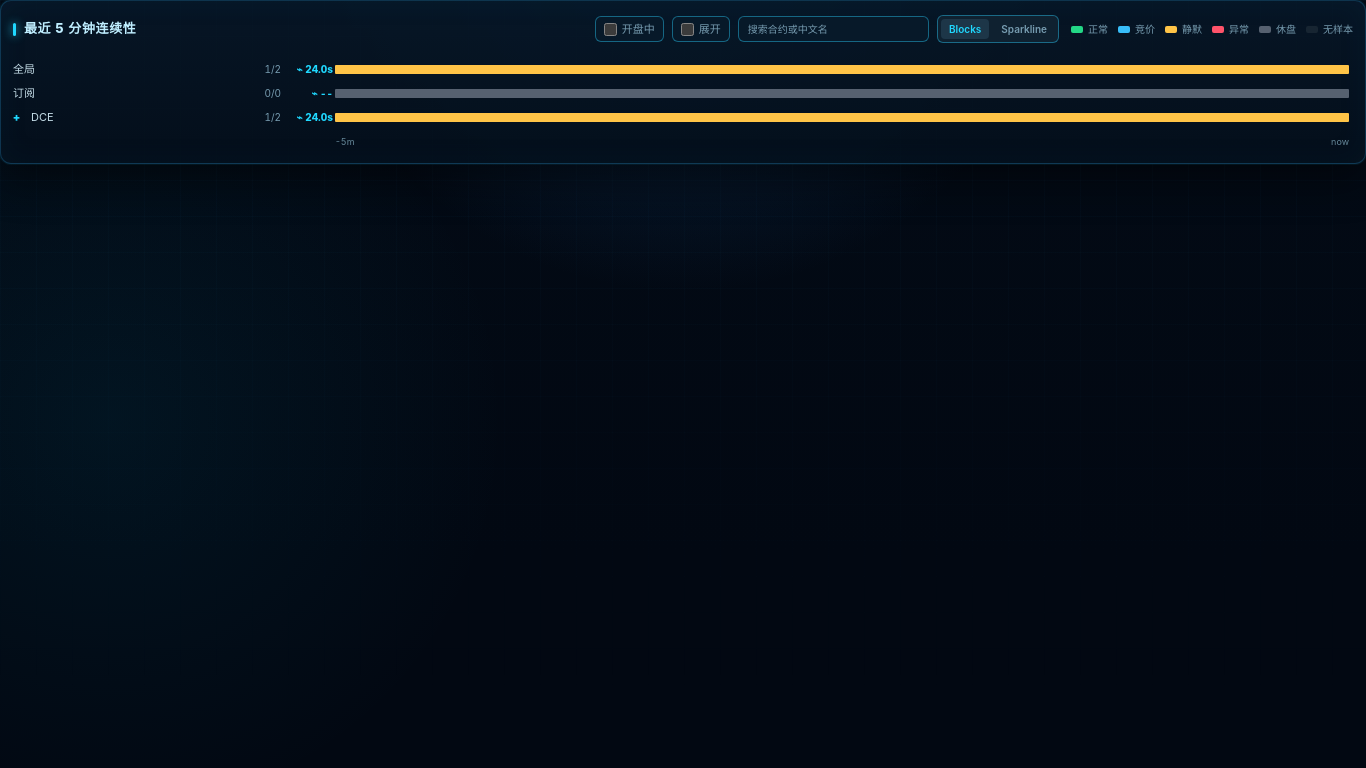
Test case: ContinuityTimeline › filters expanded symbol rows with panel-local search
Click the button "+ DCE 1/2 ⌁ 24.0s" at [315, 116], box [13,109,333,125]
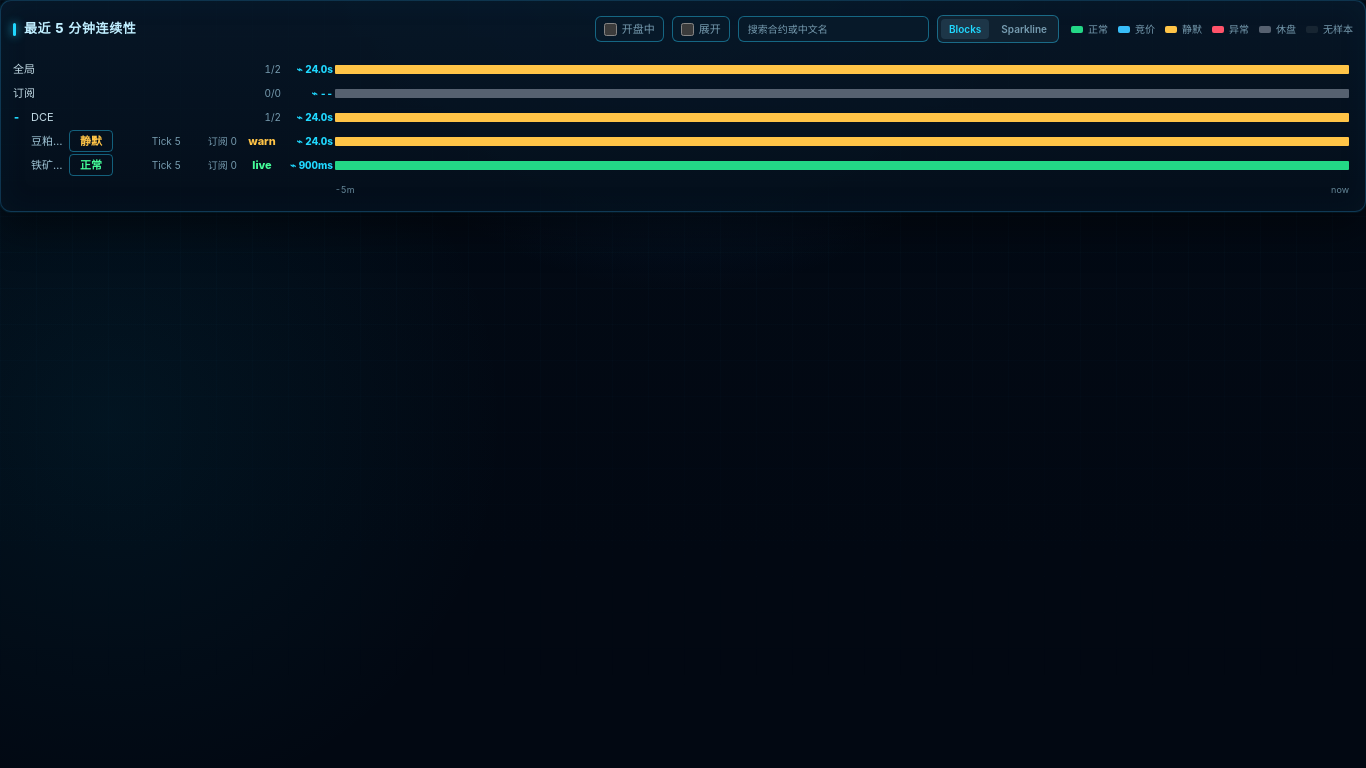
Now the text "豆粕2609" is shown, box [31,133,63,149]
Now the text "铁矿2609" is shown, box [31,157,63,173]
Type "铁矿" into the field with placeholder "搜索合约或中文名" at [833, 29], box [738,16,929,42]
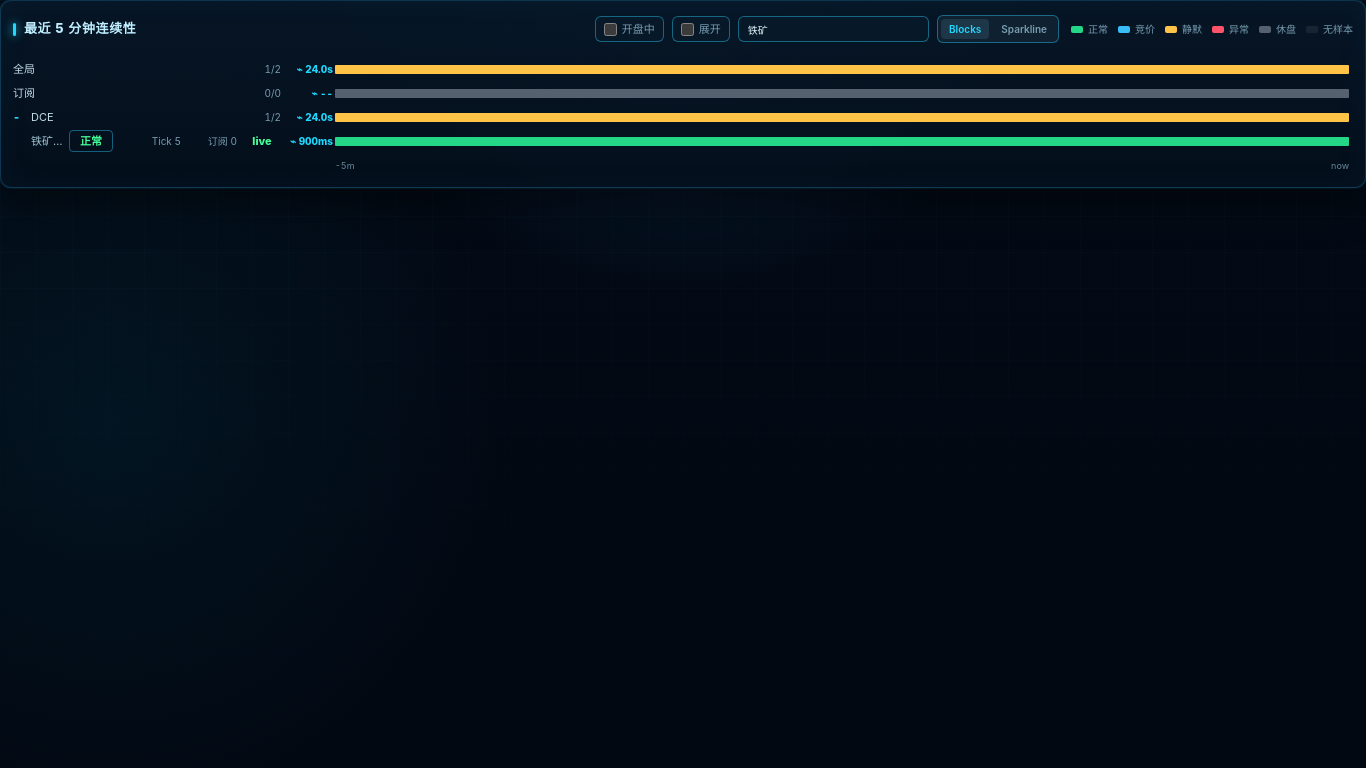
Now the text "铁矿2609" is shown, box [31,133,63,149]
Now the text "豆粕2609" is gone
